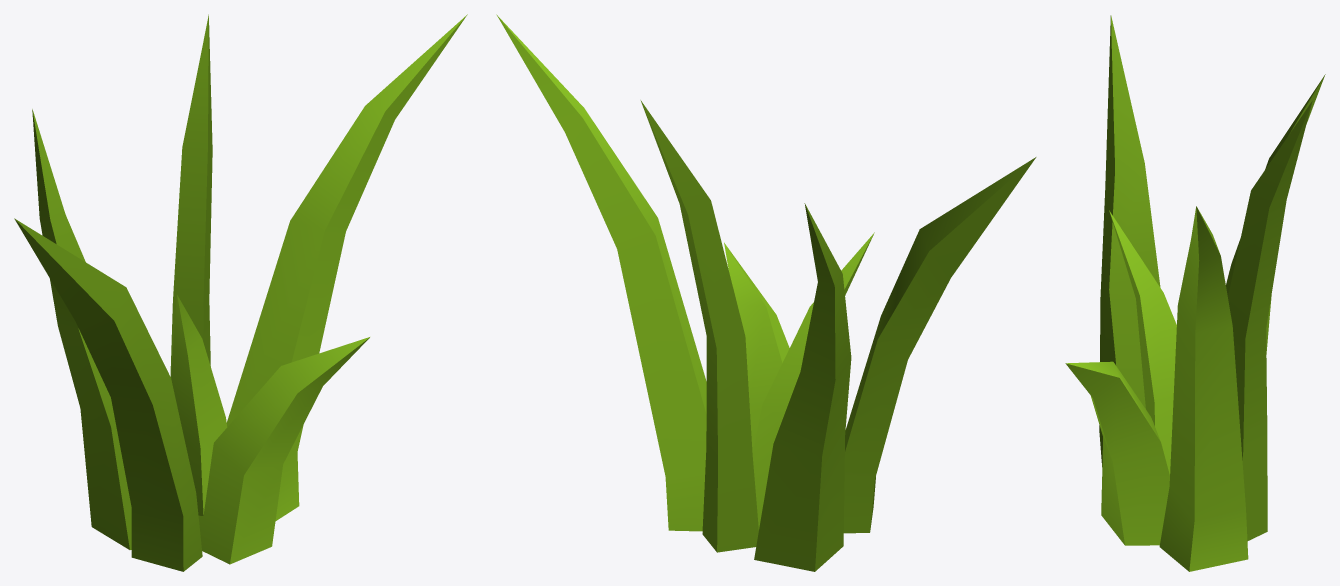
Rendered from grass.fbx.
The picture shows the model from 3 angles, left to right: view 1: azimuth 30°, elevation 25°; view 2: azimuth 150°, elevation 25°; view 3: azimuth 270°, elevation 25°; orthographic projection.
Parts seen in each view (by area): view 1: polySurface14; view 2: polySurface14; view 3: polySurface14.
Boxes of the visible parts, x1=… form: polySurface14: x1=14, y1=14, x2=467, y2=571; polySurface14: x1=496, y1=14, x2=1036, y2=571; polySurface14: x1=1065, y1=15, x2=1325, y2=571.
Bounding box in the file's own units: 3.62 × 3.19 × 1.63.
